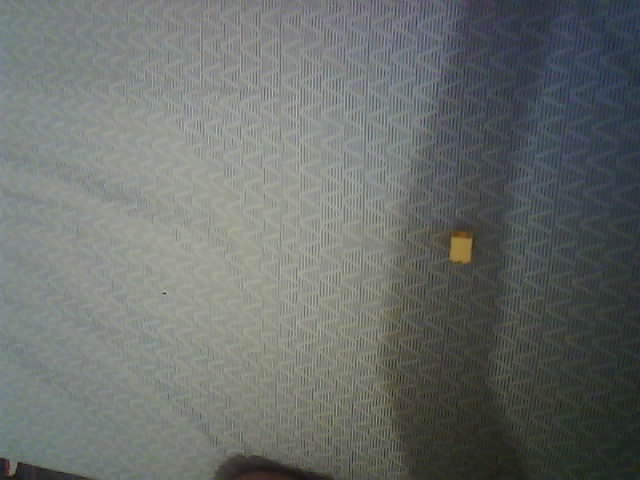lego: (448, 231, 475, 266)
